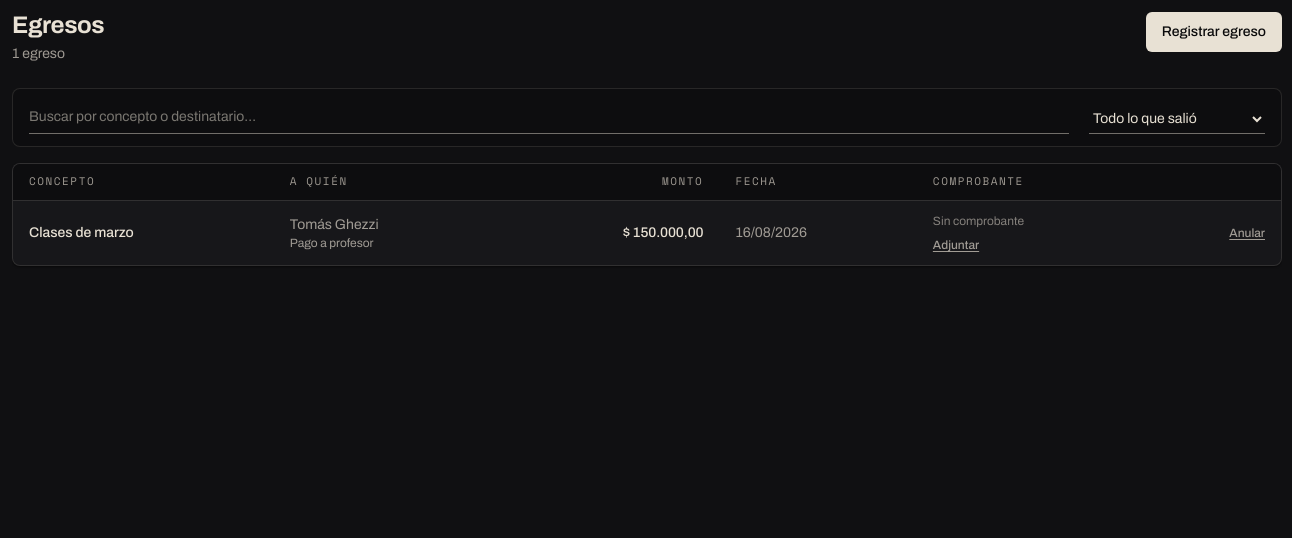
Test: anular un egreso › pide el motivo y avisa que deja de contar en la caja
The width and height of the screenshot is (1292, 538).
Step 1. Click the button "Anular" → (1247, 233), box [1229,225,1265,241]
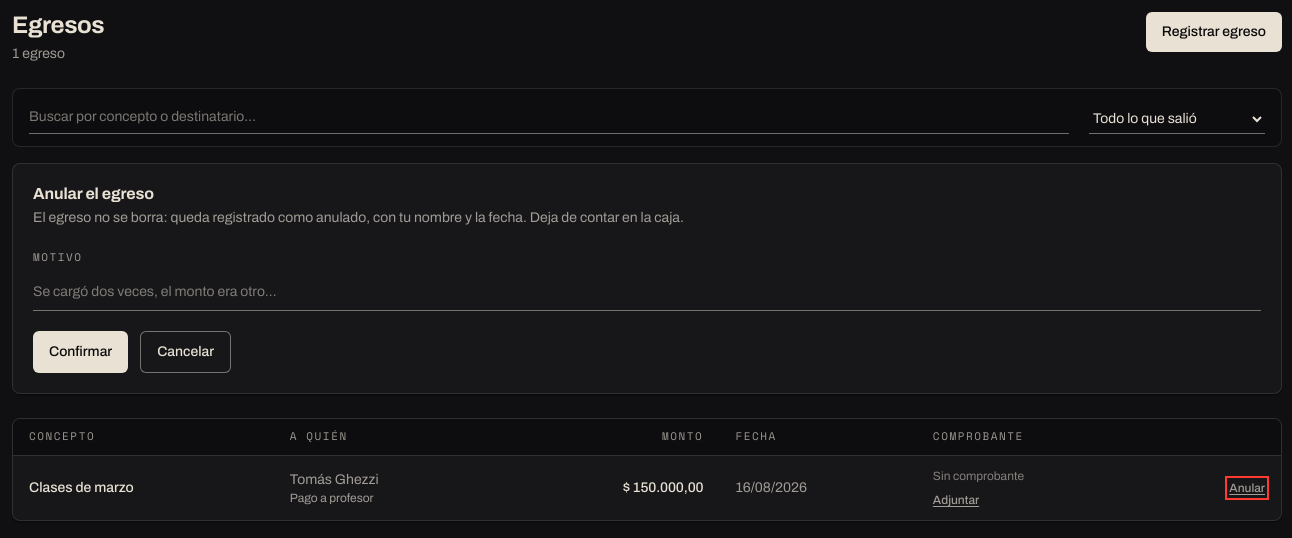
Expected: the heading "Anular el egreso" is shown, [33,185,154,202]
Expected: the text "Deja de contar en la caja" is shown, [33,210,684,225]
